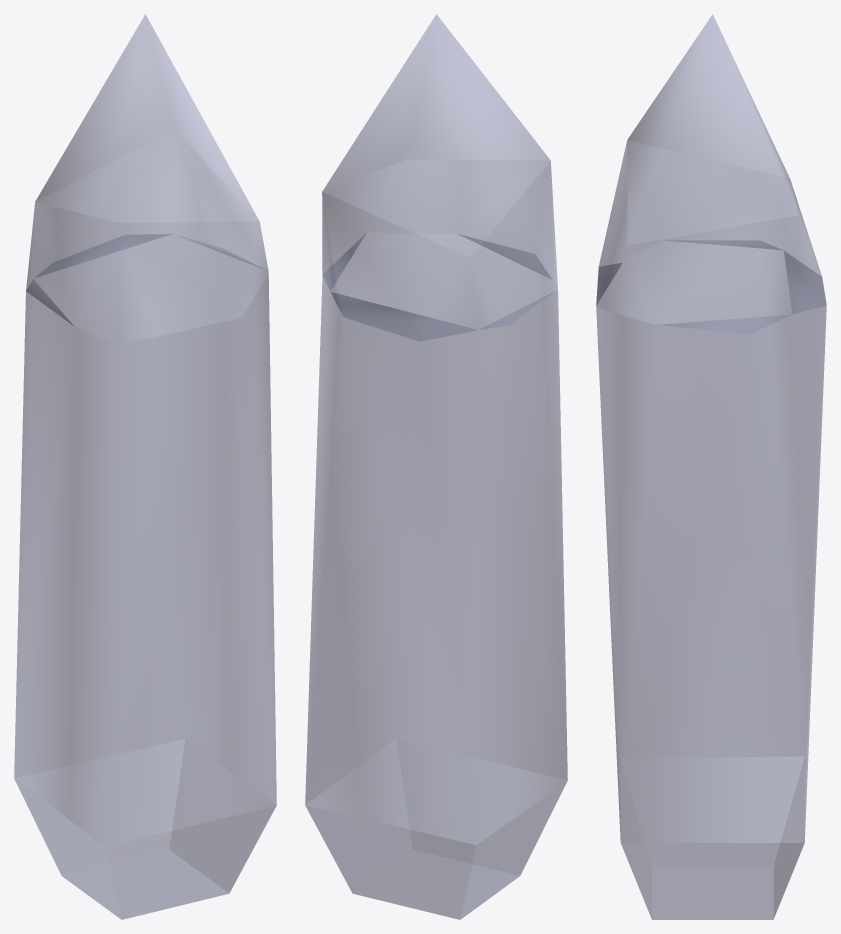
File: CrystalBlue.fbx
3 renders of one model, left to right at view 1: azimuth 30°, elevation 25°; view 2: azimuth 150°, elevation 25°; view 3: azimuth 270°, elevation 25°, orthographic.
Visible parts, largest first — view 1: crystalBlue1; view 2: crystalBlue1; view 3: crystalBlue1.
Part boxes in pixels (<box>): crystalBlue1: <box>14,14,276,919</box>; crystalBlue1: <box>305,14,567,919</box>; crystalBlue1: <box>596,14,826,919</box>.
Size of the model in its own units: 0.2377 by 1.03 by 0.2449.
